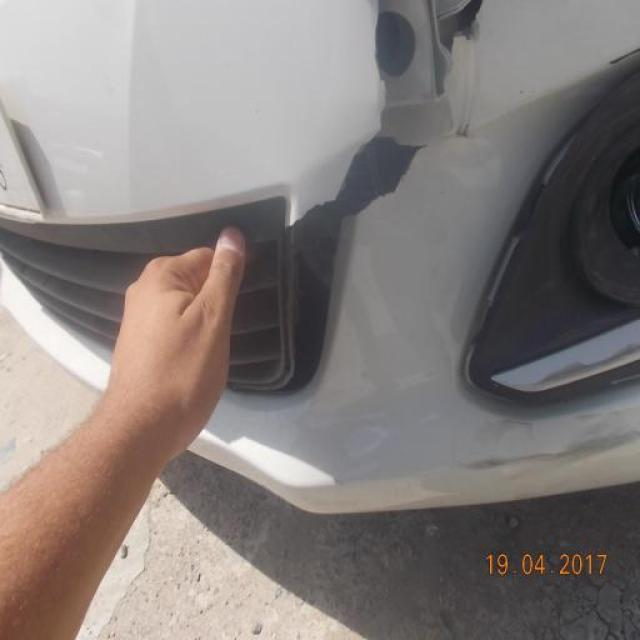tear: (275, 0, 501, 232)
